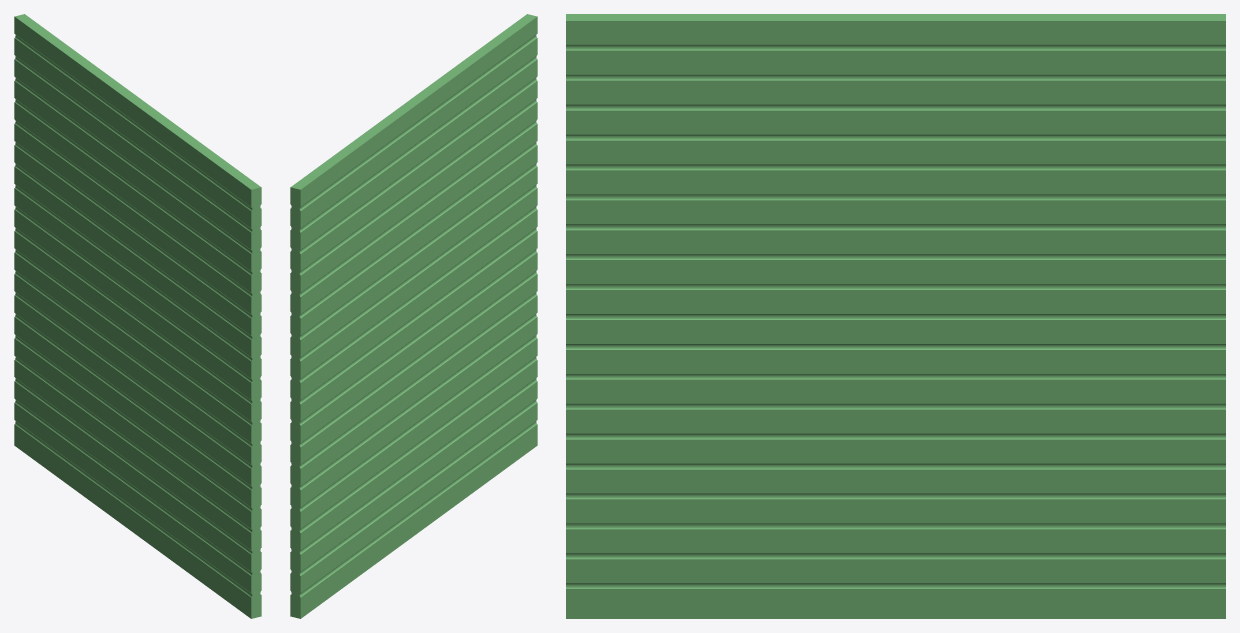
Rendered from dock-door.glb.
The picture shows the model from 3 angles, left to right: view 1: azimuth 30°, elevation 25°; view 2: azimuth 150°, elevation 25°; view 3: azimuth 270°, elevation 25°; orthographic projection. The views are drawn at different scales.
Parts seen in each view (by area): view 1: Mesh_Mesh_head_geo.001_lambert2SG.001; view 2: Mesh_Mesh_head_geo.001_lambert2SG.001; view 3: Mesh_Mesh_head_geo.001_lambert2SG.001.
Boxes of the visible parts, bbox=[...] form: Mesh_Mesh_head_geo.001_lambert2SG.001: bbox=[14, 14, 261, 618]; Mesh_Mesh_head_geo.001_lambert2SG.001: bbox=[290, 14, 537, 618]; Mesh_Mesh_head_geo.001_lambert2SG.001: bbox=[566, 14, 1225, 618].
Bounding box in the file's own units: 0.5 × 20 × 20.
